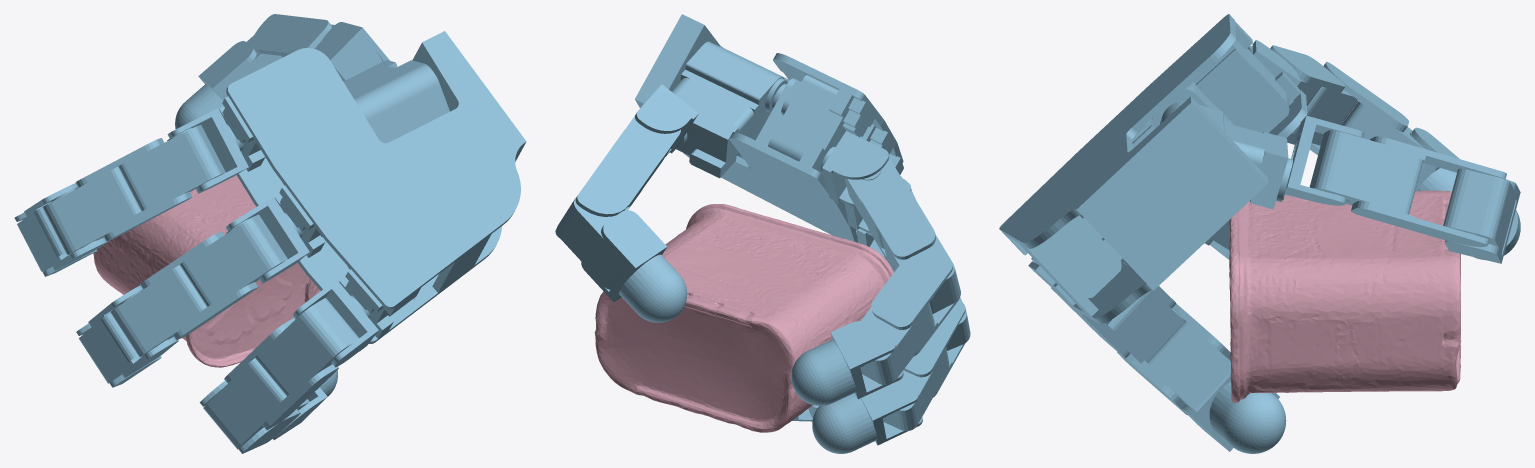
Rendered from Allegro_ycb+potted_meat_can_mesh.glb.
3 views of the same model, side by side, from view 1: azimuth 30°, elevation 25°; view 2: azimuth 150°, elevation 25°; view 3: azimuth 270°, elevation 25° (orthographic). The views are drawn at different scales.
Visible parts, largest first — view 1: world; view 2: world; view 3: world.
Boxes of the visible parts, left/top/right/bottom form: world: left=14, top=14, right=526, bottom=453; world: left=555, top=14, right=970, bottom=453; world: left=999, top=14, right=1520, bottom=453.
Bounding box in the file's own units: 0.1792 × 0.1666 × 0.1879.
